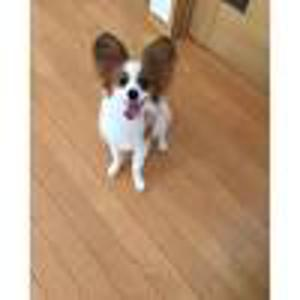yell: (92, 31, 176, 192)
